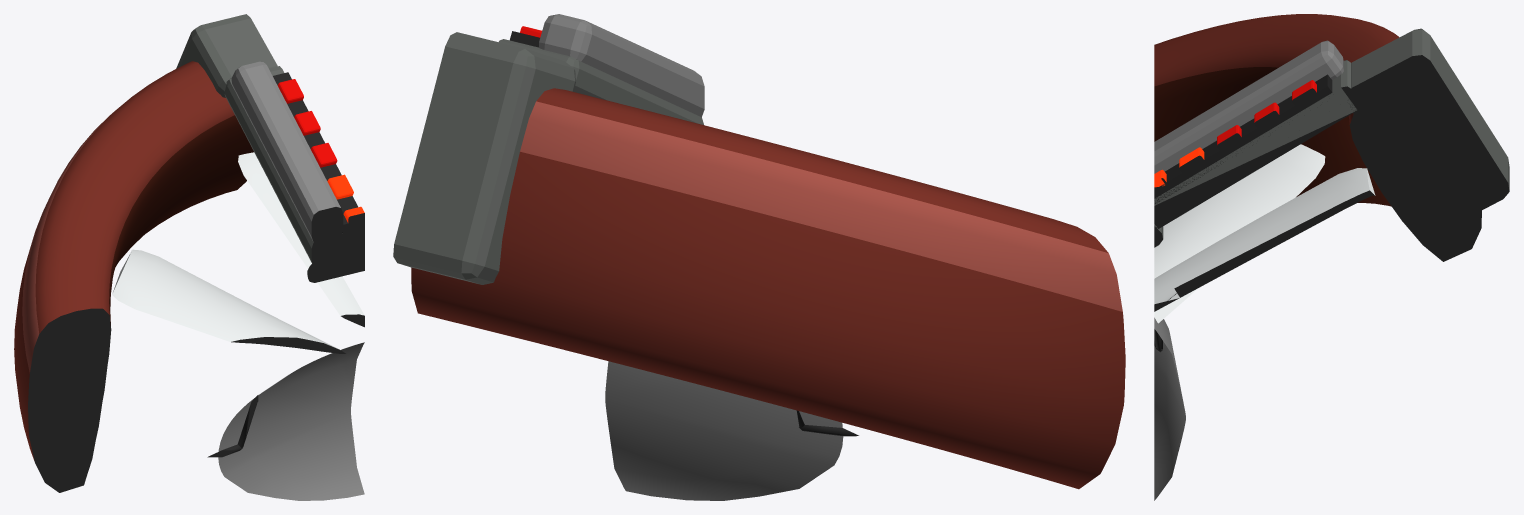
Rendered from zeppelin_3.glb.
3 views of the same model, side by side, from view 1: azimuth 30°, elevation 25°; view 2: azimuth 150°, elevation 25°; view 3: azimuth 270°, elevation 25° (orthographic). The views are drawn at different scales.
Parts seen in each view (by area): view 1: duct.001, cowl.001, blade_3.001, bridge_rail_l.001, bridge_clamp.001, bridge_base.001, blade_2.001, bridge_channel.001, bridge_foot.001, cowl_seam_l.001, lamp_1.001, lamp_0.001 (+2 smaller); view 2: duct.001, bridge_clamp.001, cowl.001, bridge_rail_l.001, bridge_base.001; view 3: duct.001, bridge_clamp.001, blade_3.001, blade_2.001, bridge_base.001, bridge_rail_l.001, cowl.001, bridge_channel.001, lamp_3.001, lamp_1.001, lamp_2.001, lamp_0.001.
Part boxes in pixels (x1=…): duct.001: x1=14, y1=61, x2=253, y2=492; cowl.001: x1=218, y1=342, x2=364, y2=500; blade_3.001: x1=112, y1=249, x2=345, y2=353; bridge_rail_l.001: x1=231, y1=61, x2=343, y2=242; bridge_clamp.001: x1=176, y1=14, x2=277, y2=97; bridge_base.001: x1=224, y1=66, x2=364, y2=267; blade_2.001: x1=238, y1=152, x2=364, y2=327; bridge_channel.001: x1=273, y1=72, x2=364, y2=235; bridge_foot.001: x1=307, y1=250, x2=364, y2=282; cowl_seam_l.001: x1=207, y1=395, x2=258, y2=457; lamp_1.001: x1=294, y1=111, x2=320, y2=135; lamp_0.001: x1=277, y1=79, x2=303, y2=103; duct.001: x1=411, y1=88, x2=1125, y2=489; bridge_clamp.001: x1=393, y1=32, x2=575, y2=284; cowl.001: x1=605, y1=361, x2=843, y2=500; bridge_rail_l.001: x1=539, y1=14, x2=704, y2=117; bridge_base.001: x1=499, y1=39, x2=703, y2=124; duct.001: x1=1154, y1=14, x2=1481, y2=261; bridge_clamp.001: x1=1349, y1=28, x2=1509, y2=231; blade_3.001: x1=1154, y1=144, x2=1325, y2=323; blade_2.001: x1=1154, y1=168, x2=1375, y2=311; bridge_base.001: x1=1154, y1=60, x2=1360, y2=230; bridge_rail_l.001: x1=1154, y1=40, x2=1343, y2=173; cowl.001: x1=1154, y1=317, x2=1185, y2=500; bridge_channel.001: x1=1154, y1=74, x2=1332, y2=203; lamp_3.001: x1=1179, y1=147, x2=1204, y2=174; lamp_1.001: x1=1254, y1=102, x2=1279, y2=128; lamp_2.001: x1=1217, y1=125, x2=1241, y2=151; lamp_0.001: x1=1292, y1=80, x2=1316, y2=106.
Bounding box in the file's own units: 23.45 × 26.2 × 18.9.
